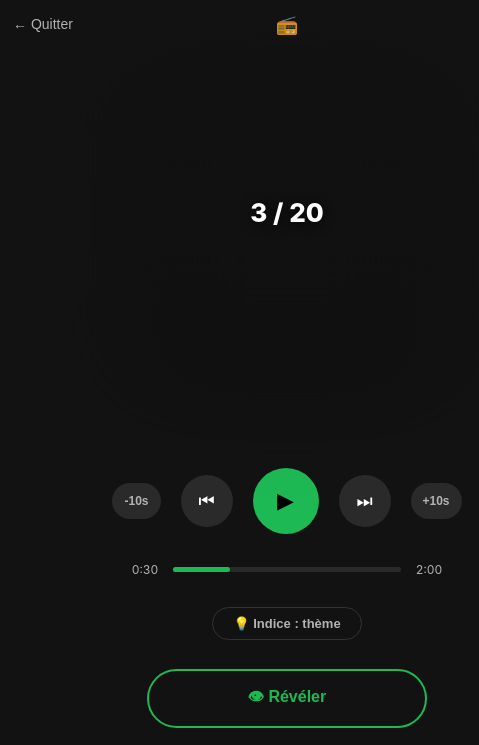
Test: Player › affiche un tiret si la réponse est révélée sans son
The width and height of the screenshot is (479, 745).
Click the button "👁 Révéler" at (287, 698), box [147,669,427,728]
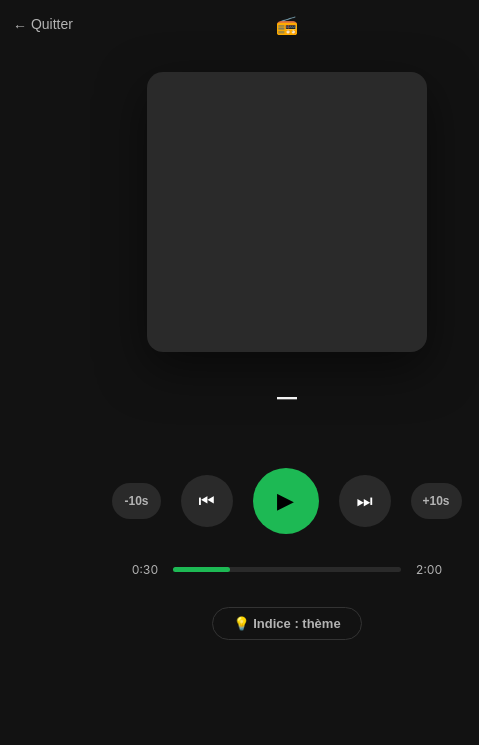
Check: the text "—" is shown, box [277,385,297,409]
